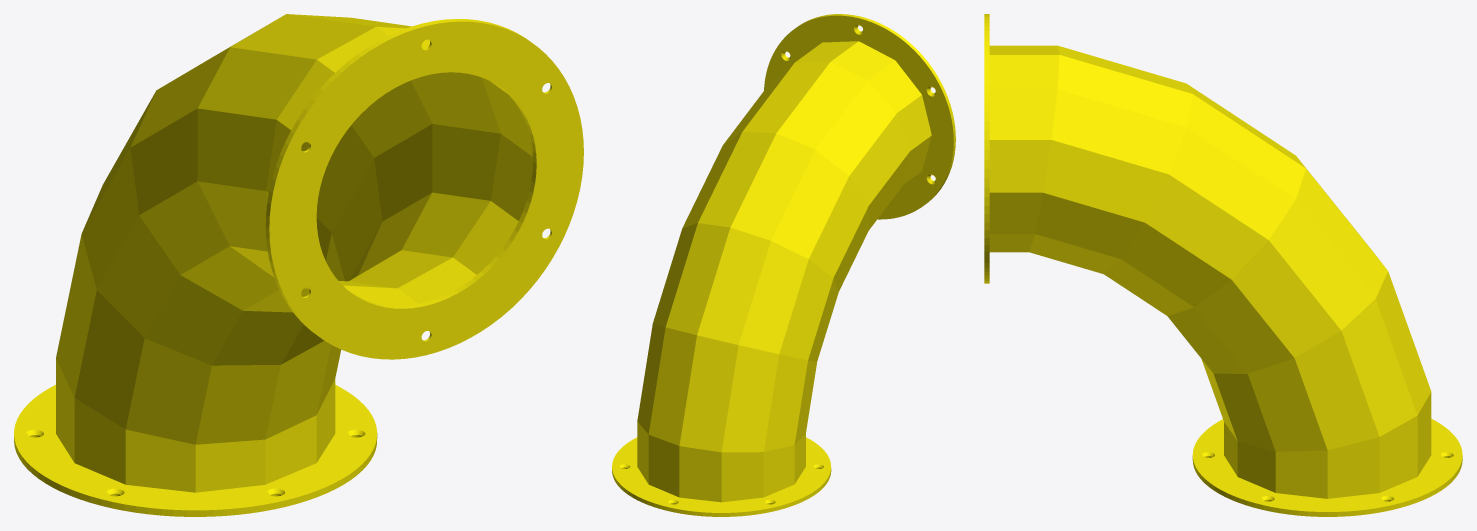
File: tubo.glb
3 views of the same model, side by side, from view 1: azimuth 30°, elevation 25°; view 2: azimuth 150°, elevation 25°; view 3: azimuth 270°, elevation 25° (orthographic). The views are drawn at different scales.
Visible parts, largest first — view 1: node_id3; view 2: node_id3; view 3: node_id3.
Boxes of the visible parts, x1,y1,x2,y2 form: node_id3: (14,14,583,516); node_id3: (612,14,955,516); node_id3: (984,14,1462,516).
Size of the model in its own units: 0.2889 by 0.512 by 0.512.
1 material, 1 textured.
